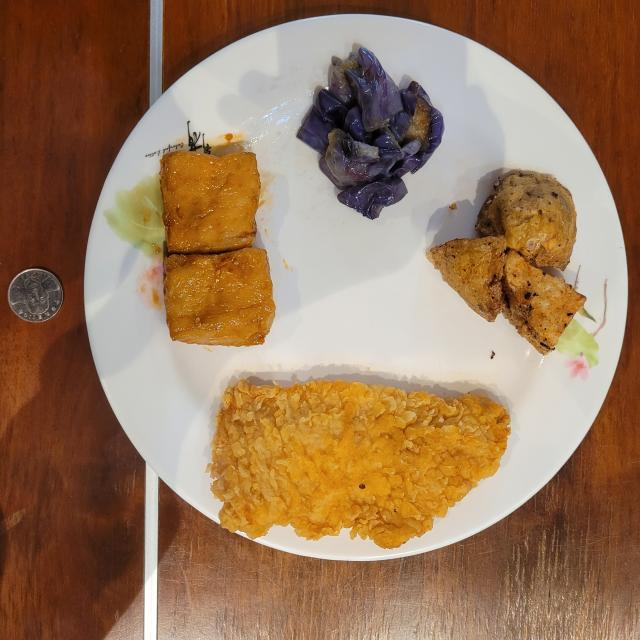coin: (8, 269, 64, 322)
creamy tofu: (160, 151, 275, 346)
fried chicken cutlet: (209, 380, 510, 549)
fried potato: (426, 171, 586, 354)
